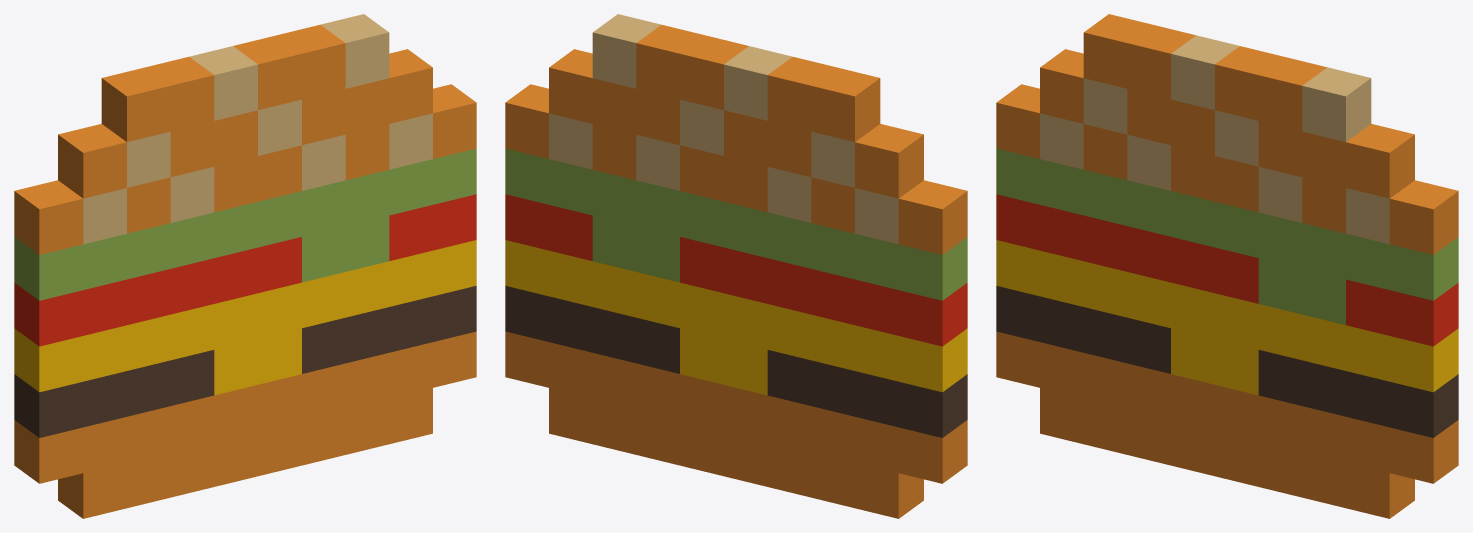
Rendered from fullness.obj.
3 views of the same model, side by side, from view 1: azimuth 30°, elevation 25°; view 2: azimuth 150°, elevation 25°; view 3: azimuth 330°, elevation 25° (orthographic).
Size of the model in its own units: 10 by 9 by 1.
1 material, 1 textured.
